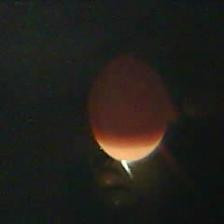fertile: (83, 49, 171, 167)
